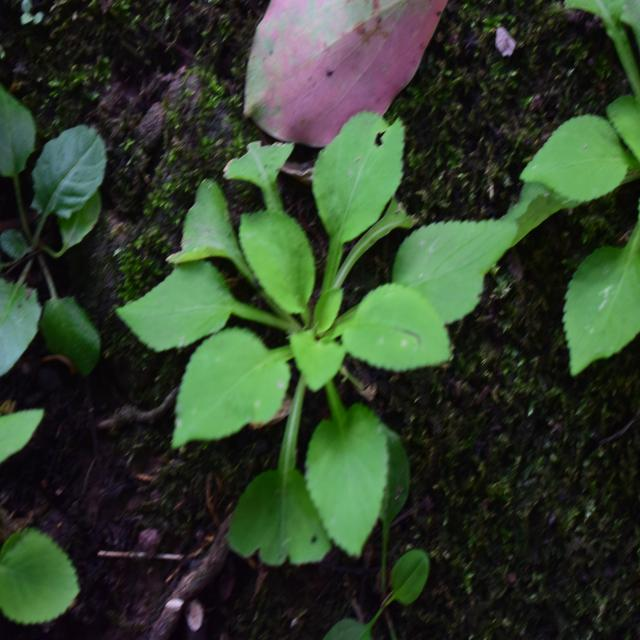Viola: (150, 128, 472, 542)
